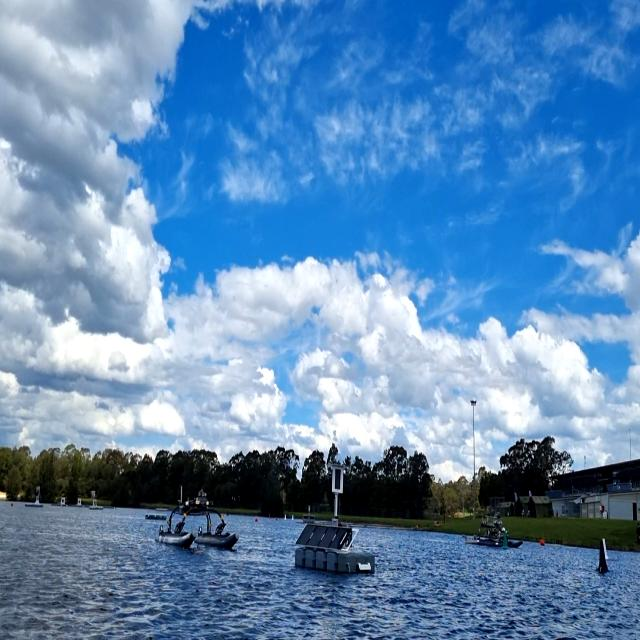led: (334, 468, 342, 490)
